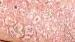plaque psoriasis: (0, 0, 75, 42), (0, 31, 23, 42)
